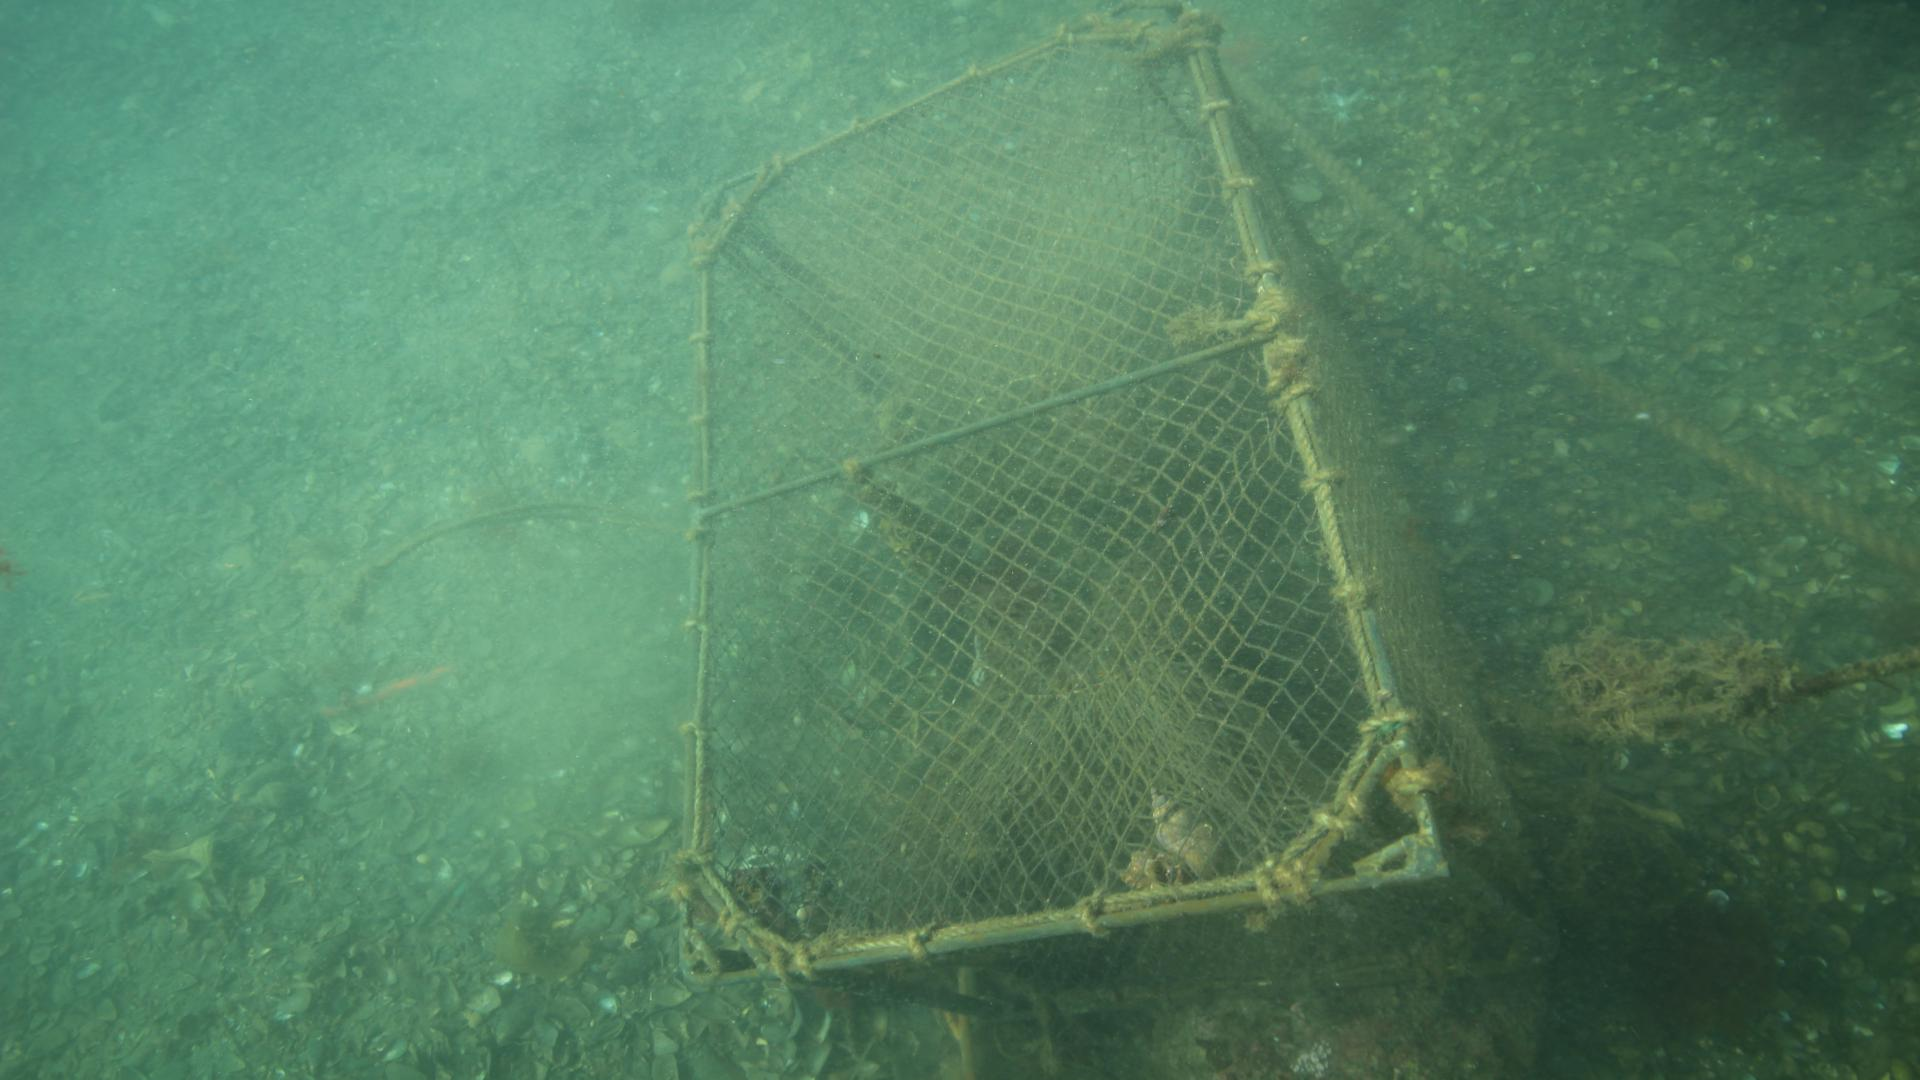bundle of ropes: (349, 491, 695, 587)
rectangular fish trap: (675, 0, 1569, 1039)
rope: (1228, 61, 1920, 584)
